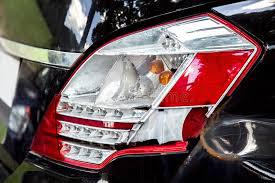Taillight-Damage: (12, 11, 270, 182)
